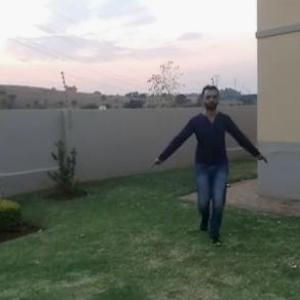land: (154, 91, 254, 219)
